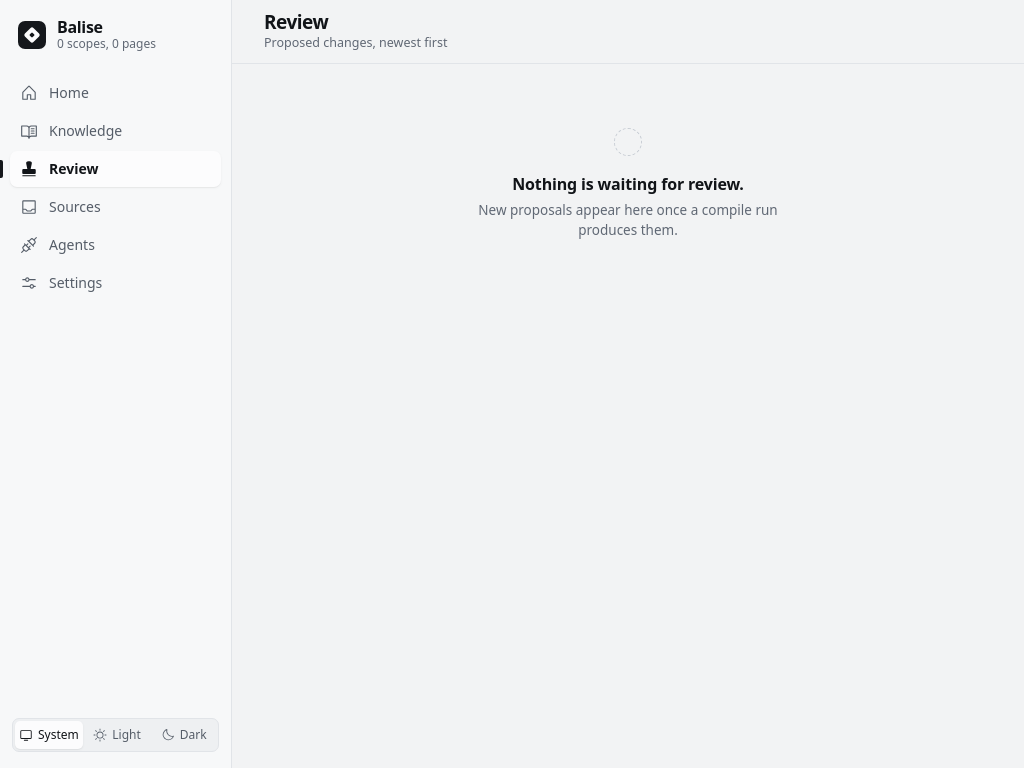
Test: AppShell › renders the Agents screen (not the not-part-of-this-release fallback) when Agents is selected
The width and height of the screenshot is (1024, 768).
Step 1. Click the button "Agents" → (116, 245), box [10, 227, 221, 263]
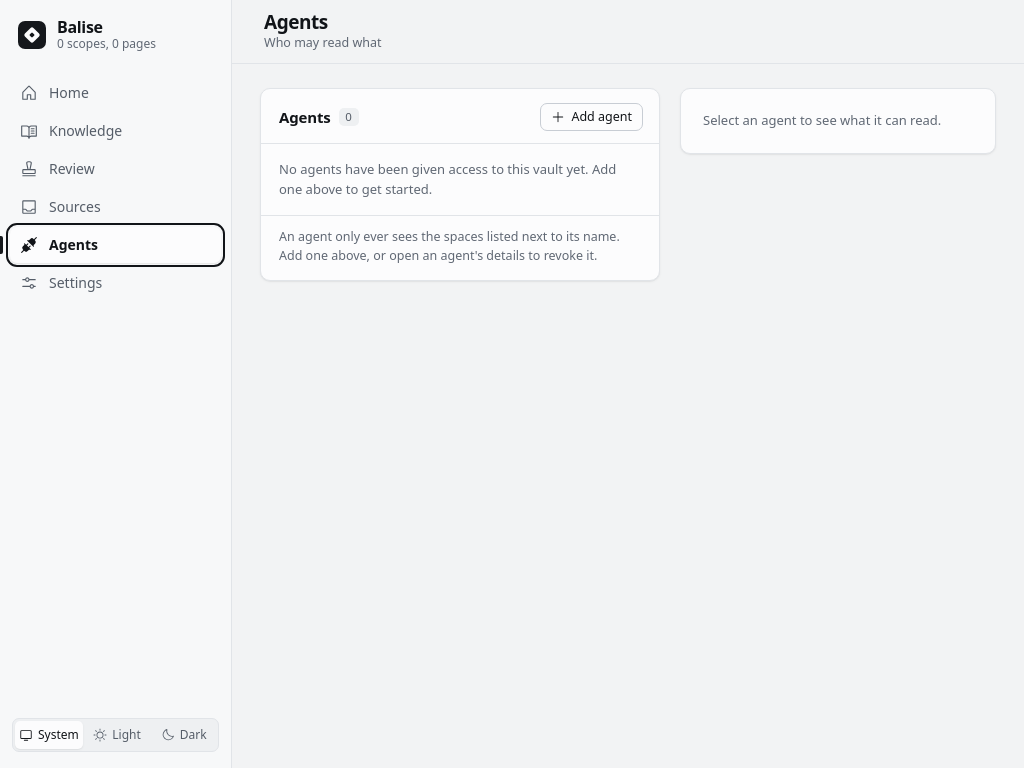
Now the text "No agents have been given access" is shown, box [279, 160, 616, 198]
